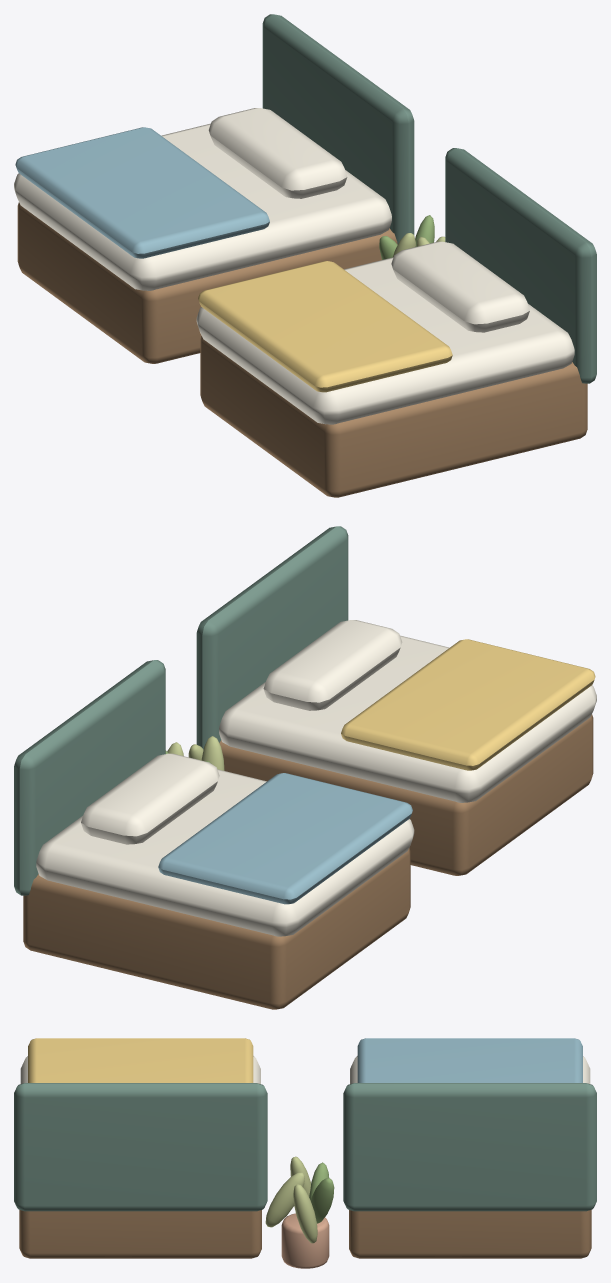
Rendered from Recovery.fbx.
3 renders of one model, top to bottom at view 1: azimuth 30°, elevation 25°; view 2: azimuth 150°, elevation 25°; view 3: azimuth 270°, elevation 25°, orthographic. The views are drawn at different scales.
Parts seen in each view (by area): view 1: Linen.004, Wood.002, Seaweed.002, Blue.002, Flower, Leaf.002; view 2: Linen.004, Wood.002, Seaweed.002, Flower, Blue.002, LeafLight.002; view 3: Seaweed.002, Wood.002, Blue.002, Flower, LeafLight.002, Clay.002, Leaf.002, Linen.004.
Part boxes in pixels (x1,y1,x2,y2): Linen.004: (14, 108, 574, 424); Wood.002: (17, 202, 587, 497); Seaweed.002: (262, 14, 596, 383); Blue.002: (15, 127, 269, 258); Flower: (198, 261, 452, 392); Leaf.002: (379, 215, 434, 259); Linen.004: (36, 620, 596, 936); Wood.002: (23, 714, 593, 1009); Seaweed.002: (14, 526, 348, 895); Flower: (341, 639, 595, 770); Blue.002: (158, 773, 412, 904); LeafLight.002: (167, 736, 224, 770); Seaweed.002: (14, 1083, 596, 1211); Wood.002: (19, 1210, 591, 1258); Blue.002: (357, 1038, 582, 1082); Flower: (28, 1038, 253, 1082); LeafLight.002: (265, 1156, 317, 1243); Clay.002: (281, 1213, 329, 1268); Leaf.002: (309, 1162, 334, 1223); Linen.004: (20, 1056, 590, 1083).
Bounding box in the file's own units: 137 × 92.5 × 269.
